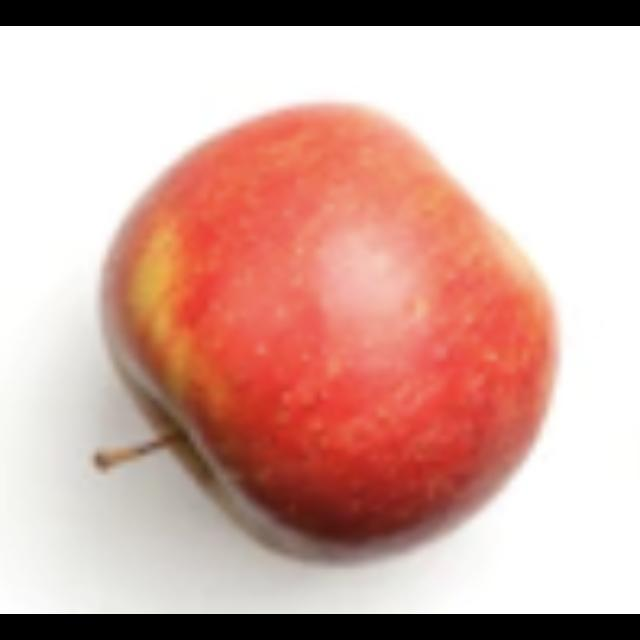Apel Segar: (97, 104, 559, 566)
